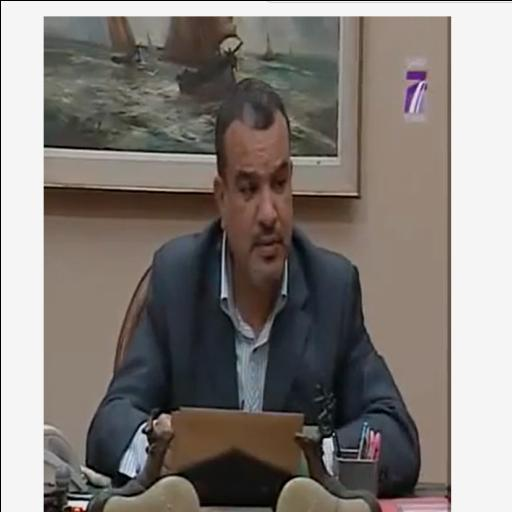slimane: (214, 79, 292, 290)
